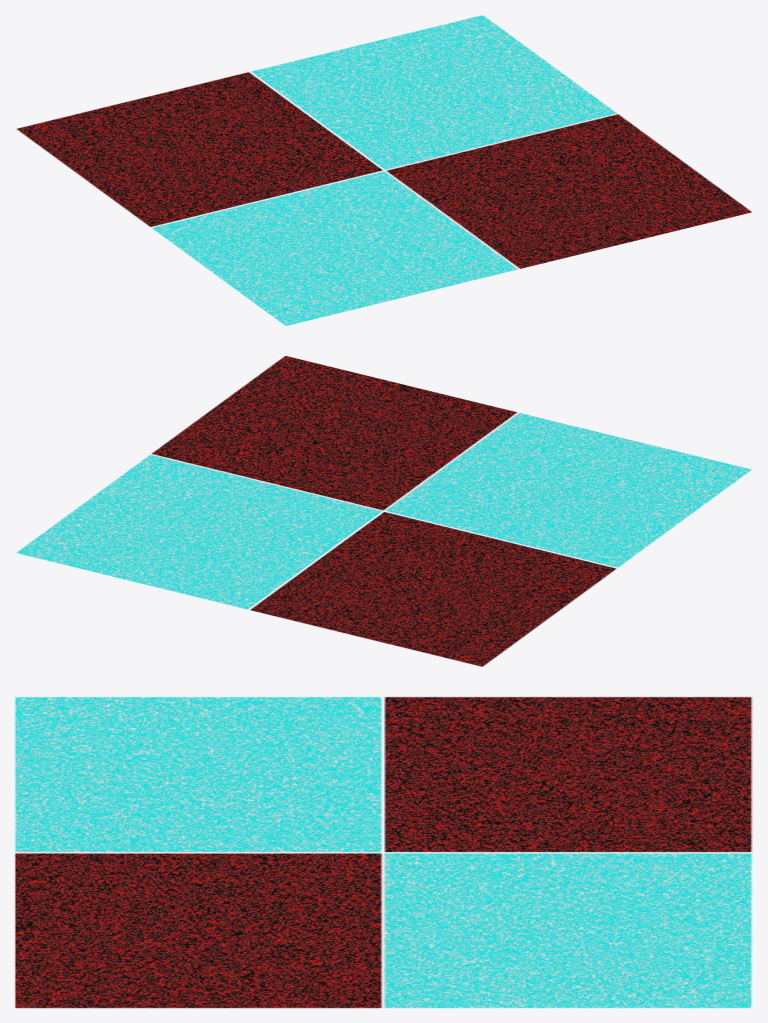
The picture shows the model from 3 angles, top to bottom: view 1: azimuth 30°, elevation 25°; view 2: azimuth 150°, elevation 25°; view 3: azimuth 270°, elevation 25°; orthographic projection. The views are drawn at different scales.
Parts seen in each view (by area): view 1: SM_DR_WaterPlane_Cistern_LOD0; view 2: SM_DR_WaterPlane_Cistern_LOD0; view 3: SM_DR_WaterPlane_Cistern_LOD0.
Boxes of the visible parts, x1,y1,x2,y2 form: SM_DR_WaterPlane_Cistern_LOD0: (16,15,751,325); SM_DR_WaterPlane_Cistern_LOD0: (16,356,751,666); SM_DR_WaterPlane_Cistern_LOD0: (15,697,752,1008).
Size of the model in its own units: 20 by 0 by 20.
Materials: 1 (1 with a texture image).
